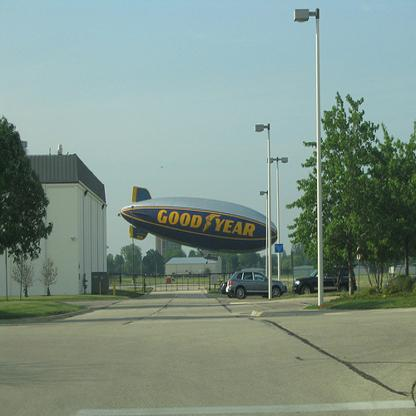Airship: (118, 184, 281, 265)
